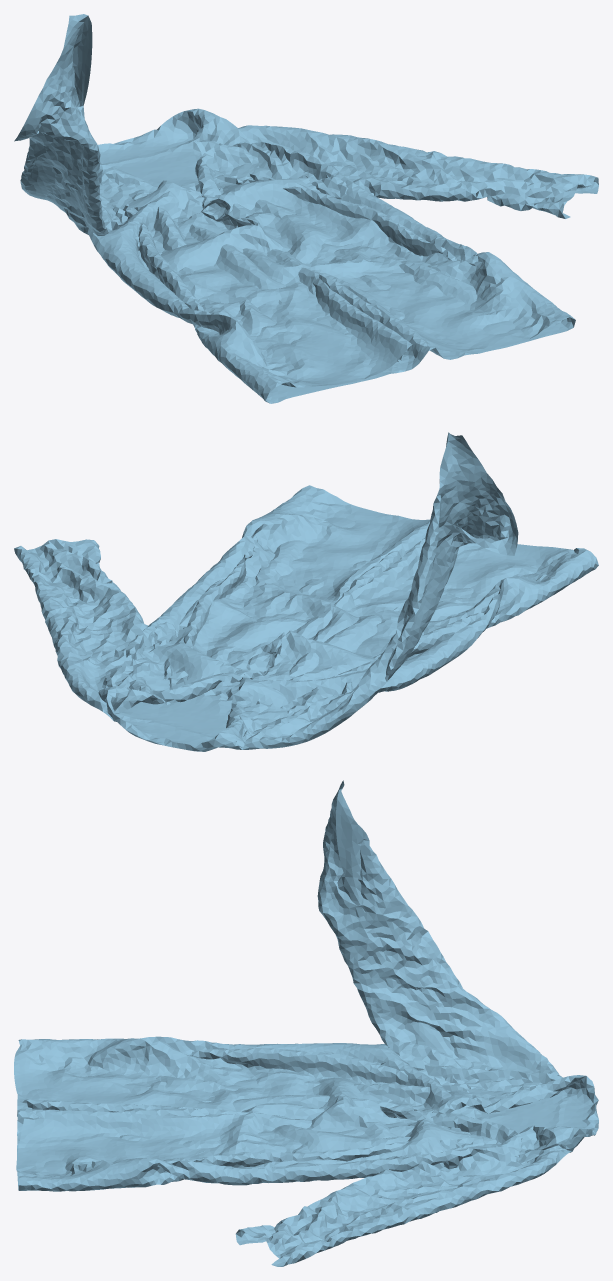
The model's file is frame_08.glb.
The picture shows the model from 3 angles, top to bottom: view 1: azimuth 30°, elevation 25°; view 2: azimuth 150°, elevation 25°; view 3: azimuth 270°, elevation 25°; orthographic projection. The views are drawn at different scales.
Visible parts, largest first — view 1: frame_08.obj; view 2: frame_08.obj; view 3: frame_08.obj.
Boxes of the visible parts, x1,y1,x2,y2 form: frame_08.obj: (14,14,598,403); frame_08.obj: (14,432,598,751); frame_08.obj: (14,780,598,1266).
Size of the model in its own units: 1.75 by 0.8224 by 1.68.
